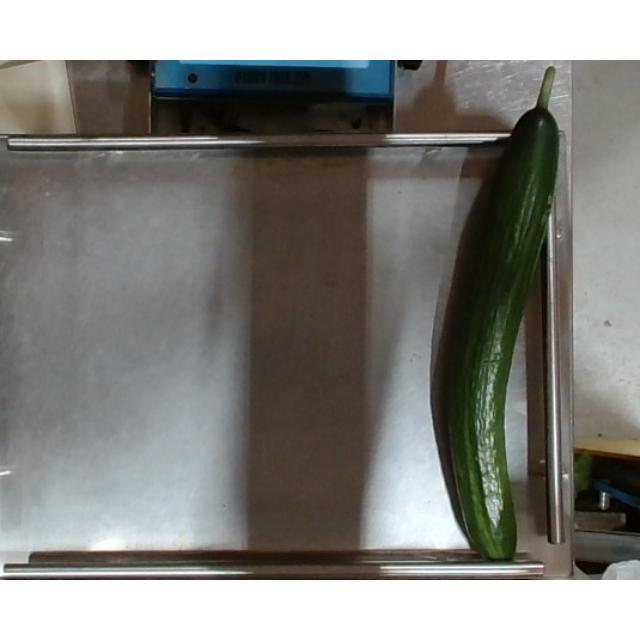cucumber: (434, 66, 560, 564)
